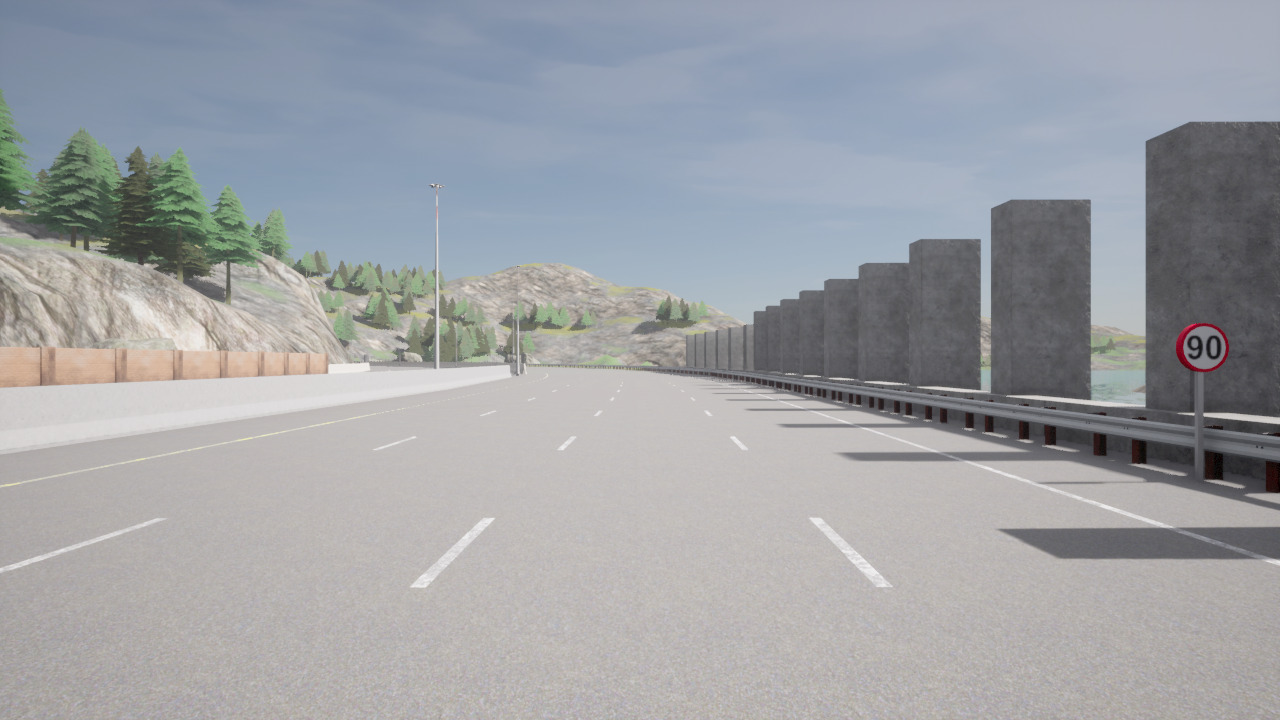sl90: (1175, 322, 1231, 374)
